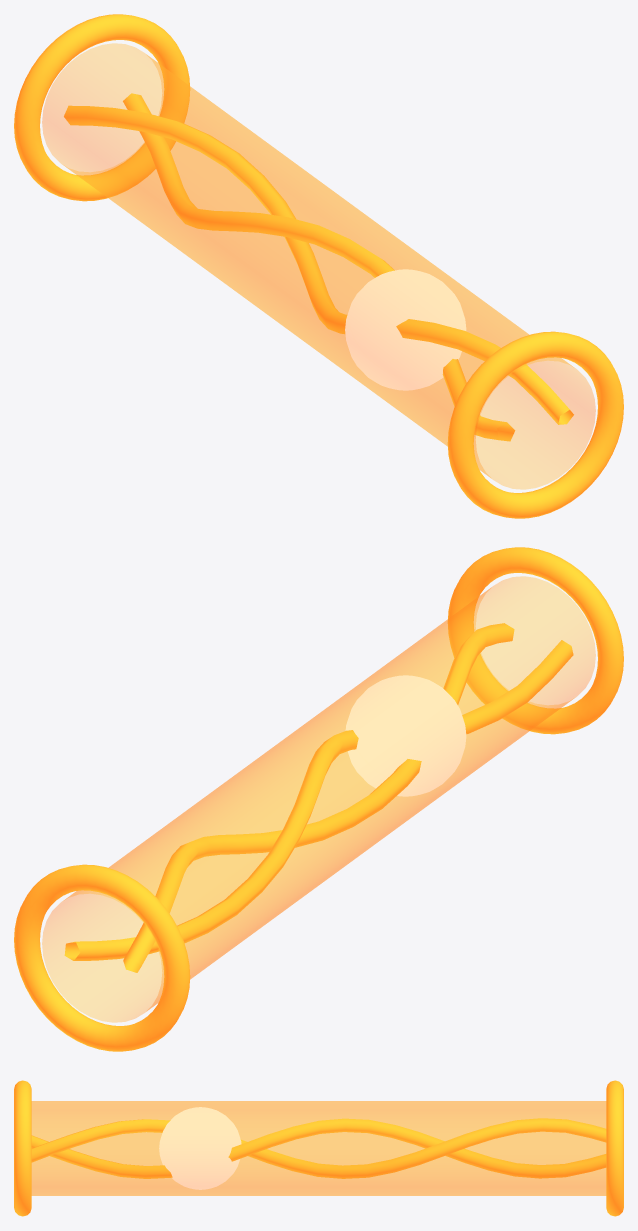
File: vfx_overclock_link.glb
3 renders of one model, top to bottom at view 1: azimuth 30°, elevation 25°; view 2: azimuth 150°, elevation 25°; view 3: azimuth 270°, elevation 25°, orthographic. The views are drawn at different scales.
Visible parts, largest first — view 1: link_sheath, link_collar0, link_collar-1, link_strand0, link_bead, link_strand1; view 2: link_sheath, link_collar-1, link_collar0, link_bead, link_strand1, link_strand0; view 3: link_sheath, link_strand0, link_strand1, link_bead, link_collar0, link_collar-1.
Boxes of the visible parts, bbox=[...] form: link_sheath: bbox=[42, 43, 595, 489]; link_collar0: bbox=[447, 331, 623, 518]; link_collar-1: bbox=[14, 14, 189, 201]; link_strand0: bbox=[64, 105, 573, 424]; link_bead: bbox=[345, 269, 466, 390]; link_strand1: bbox=[123, 93, 515, 441]; link_sheath: bbox=[42, 576, 595, 1022]; link_collar-1: bbox=[14, 864, 190, 1051]; link_collar0: bbox=[448, 547, 623, 734]; link_bead: bbox=[345, 675, 466, 796]; link_strand1: bbox=[64, 640, 573, 960]; link_strand0: bbox=[123, 623, 514, 972]; link_sheath: bbox=[31, 1101, 606, 1195]; link_strand0: bbox=[31, 1118, 606, 1178]; link_strand1: bbox=[31, 1118, 606, 1178]; link_bead: bbox=[159, 1107, 241, 1189]; link_collar0: bbox=[14, 1080, 31, 1216]; link_collar-1: bbox=[606, 1080, 623, 1216].
Bounding box in the file's own units: 0.23 × 0.23 × 1.03.
